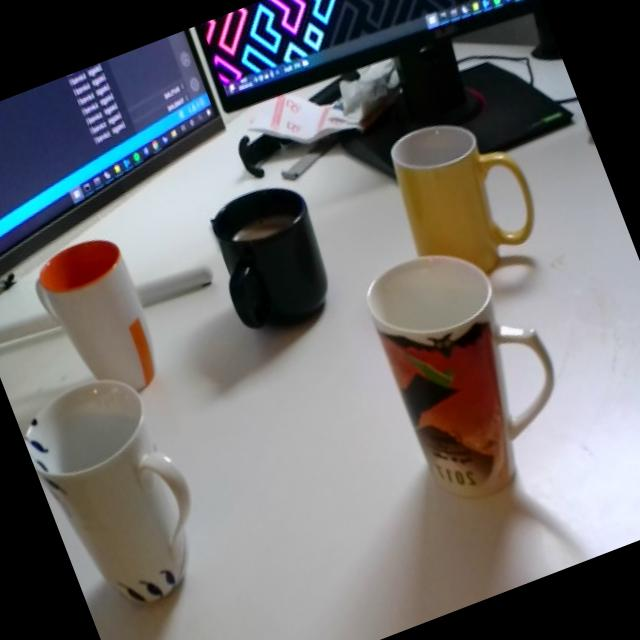Cocio Cup: (372, 96, 556, 304)
Cup: (196, 173, 346, 344)
Halloween cup: (354, 223, 587, 514)
Hand painted cup: (12, 360, 223, 627)
White Cup: (26, 230, 170, 413)
